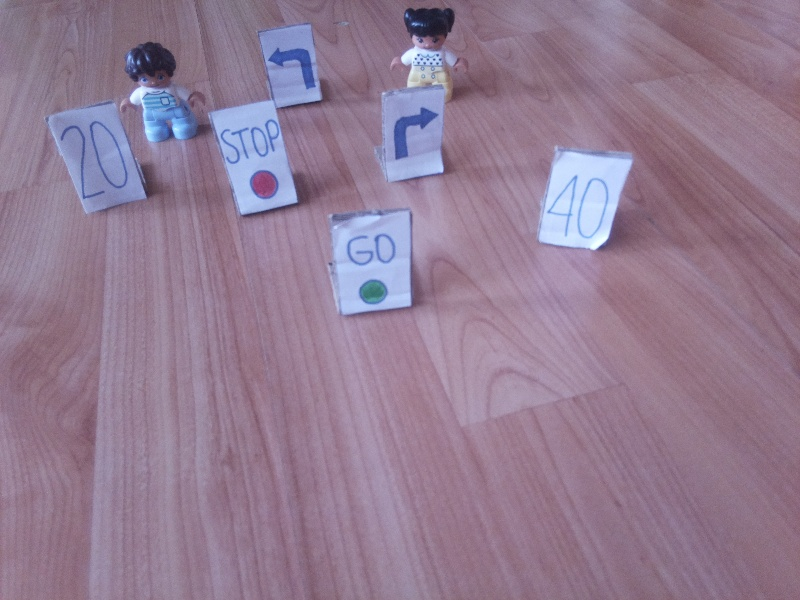20: (59, 116, 130, 198)
40: (551, 165, 606, 244)
go: (342, 227, 401, 305)
person: (118, 41, 205, 141), (390, 4, 468, 88)
stop: (217, 117, 286, 200)
turn left: (266, 45, 317, 92)
turn right: (387, 105, 439, 161)
